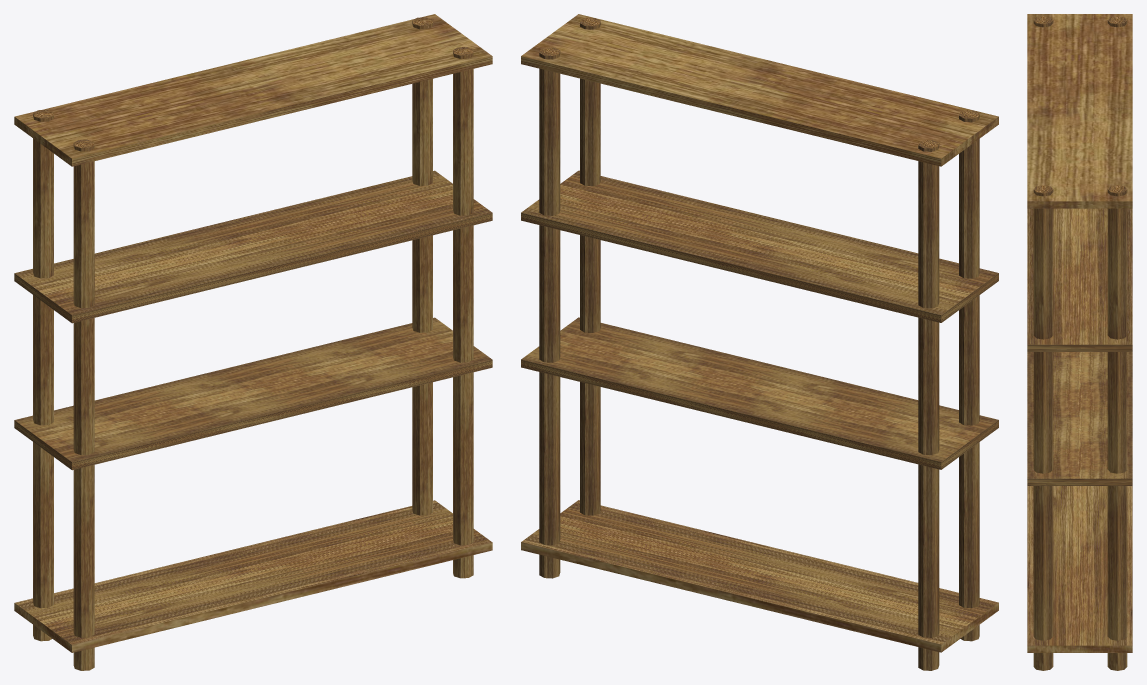
The model's file is bookshelf.glb.
3 renders of one model, left to right at view 1: azimuth 30°, elevation 25°; view 2: azimuth 150°, elevation 25°; view 3: azimuth 270°, elevation 25°, orthographic. The views are drawn at different scales.
Visible parts, largest first — view 1: Object; view 2: Object; view 3: Object.
Boxes of the visible parts, left/top/right/bottom form: Object: left=14, top=14, right=492, bottom=670; Object: left=521, top=14, right=998, bottom=670; Object: left=1027, top=14, right=1132, bottom=670.
Size of the model in its own units: 1.81 by 2.15 by 0.4285.
2 materials, 2 textured.
